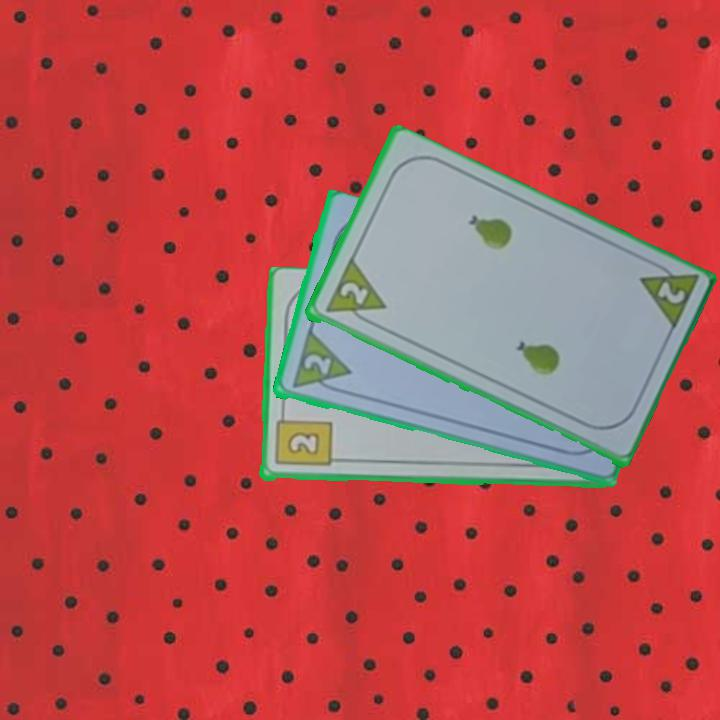2b: (271, 407, 333, 469)
2p: (336, 278, 371, 309), (653, 278, 688, 308), (299, 350, 334, 378)
